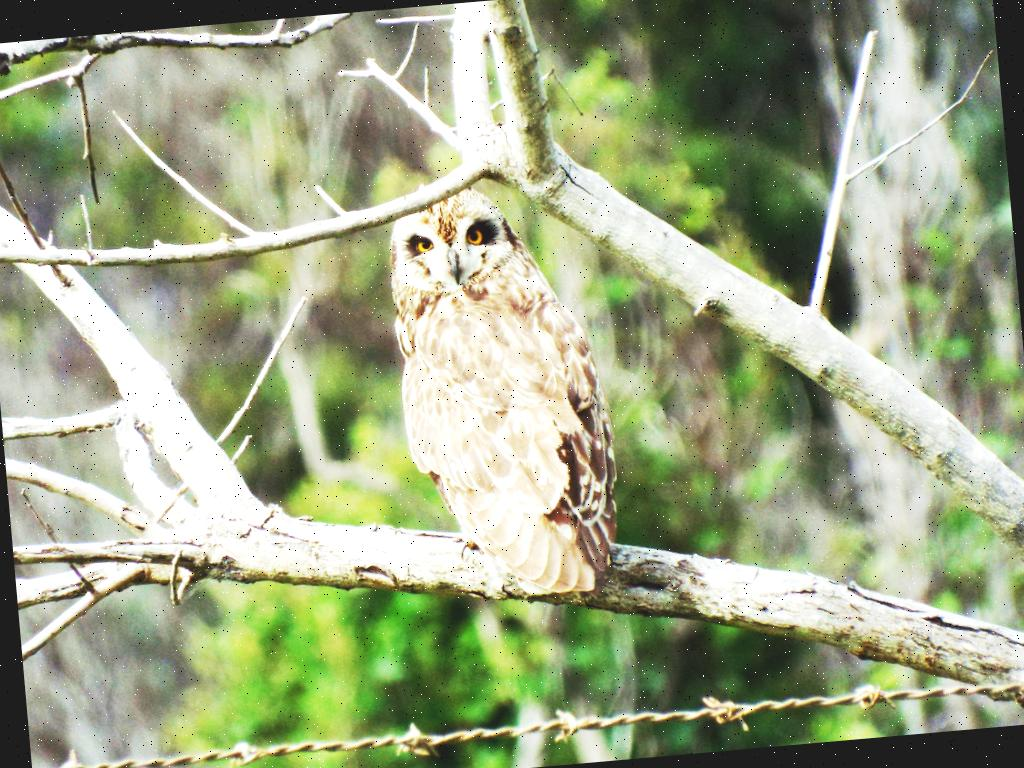Owl: (386, 184, 638, 623)
